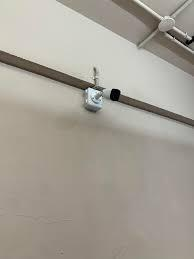Monitor: (77, 69, 130, 124)
